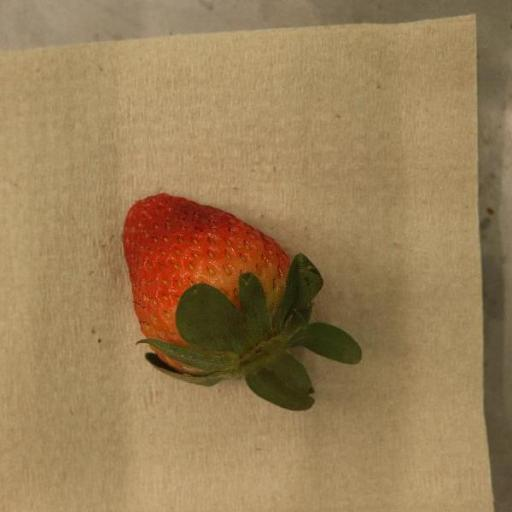Strawberry: (122, 193, 364, 412)
